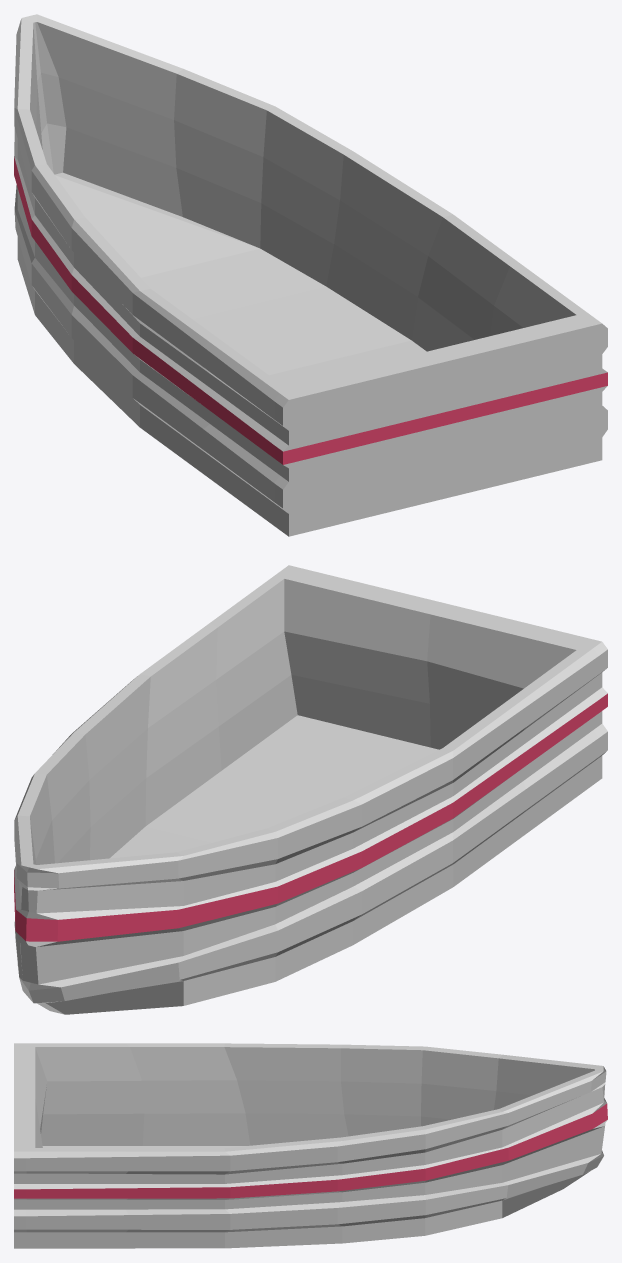
File: Cash_register_boat_optimized.fbx
3 renders of one model, top to bottom at view 1: azimuth 30°, elevation 25°; view 2: azimuth 150°, elevation 25°; view 3: azimuth 270°, elevation 25°, orthographic. The views are drawn at different scales.
Parts seen in each view (by area): view 1: Cube; view 2: Cube; view 3: Cube.
Boxes of the visible parts, x1,y1,x2,y2 form: Cube: (14, 14, 607, 536); Cube: (14, 565, 607, 1014); Cube: (14, 1043, 607, 1248).
Size of the model in its own units: 134 by 70.71 by 301.
